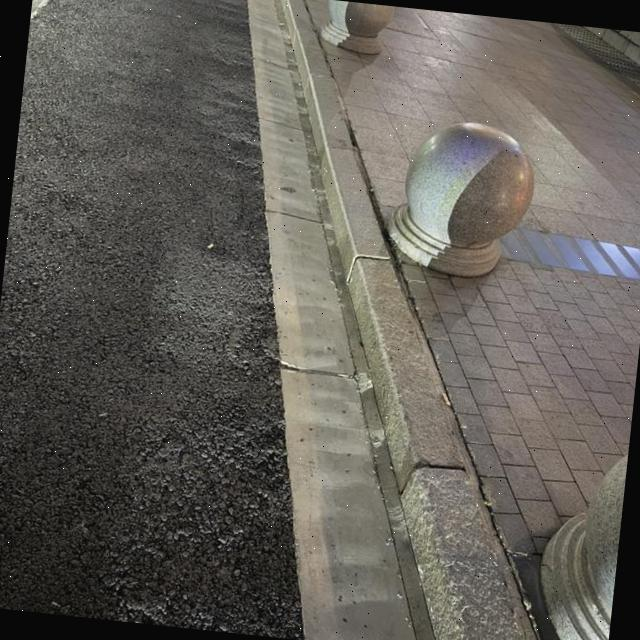curb: (277, 0, 534, 640)
